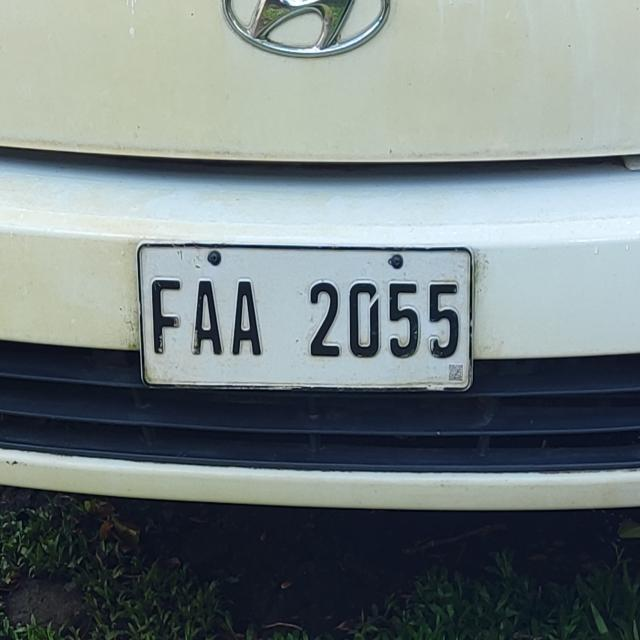plate: (132, 235, 479, 396)
